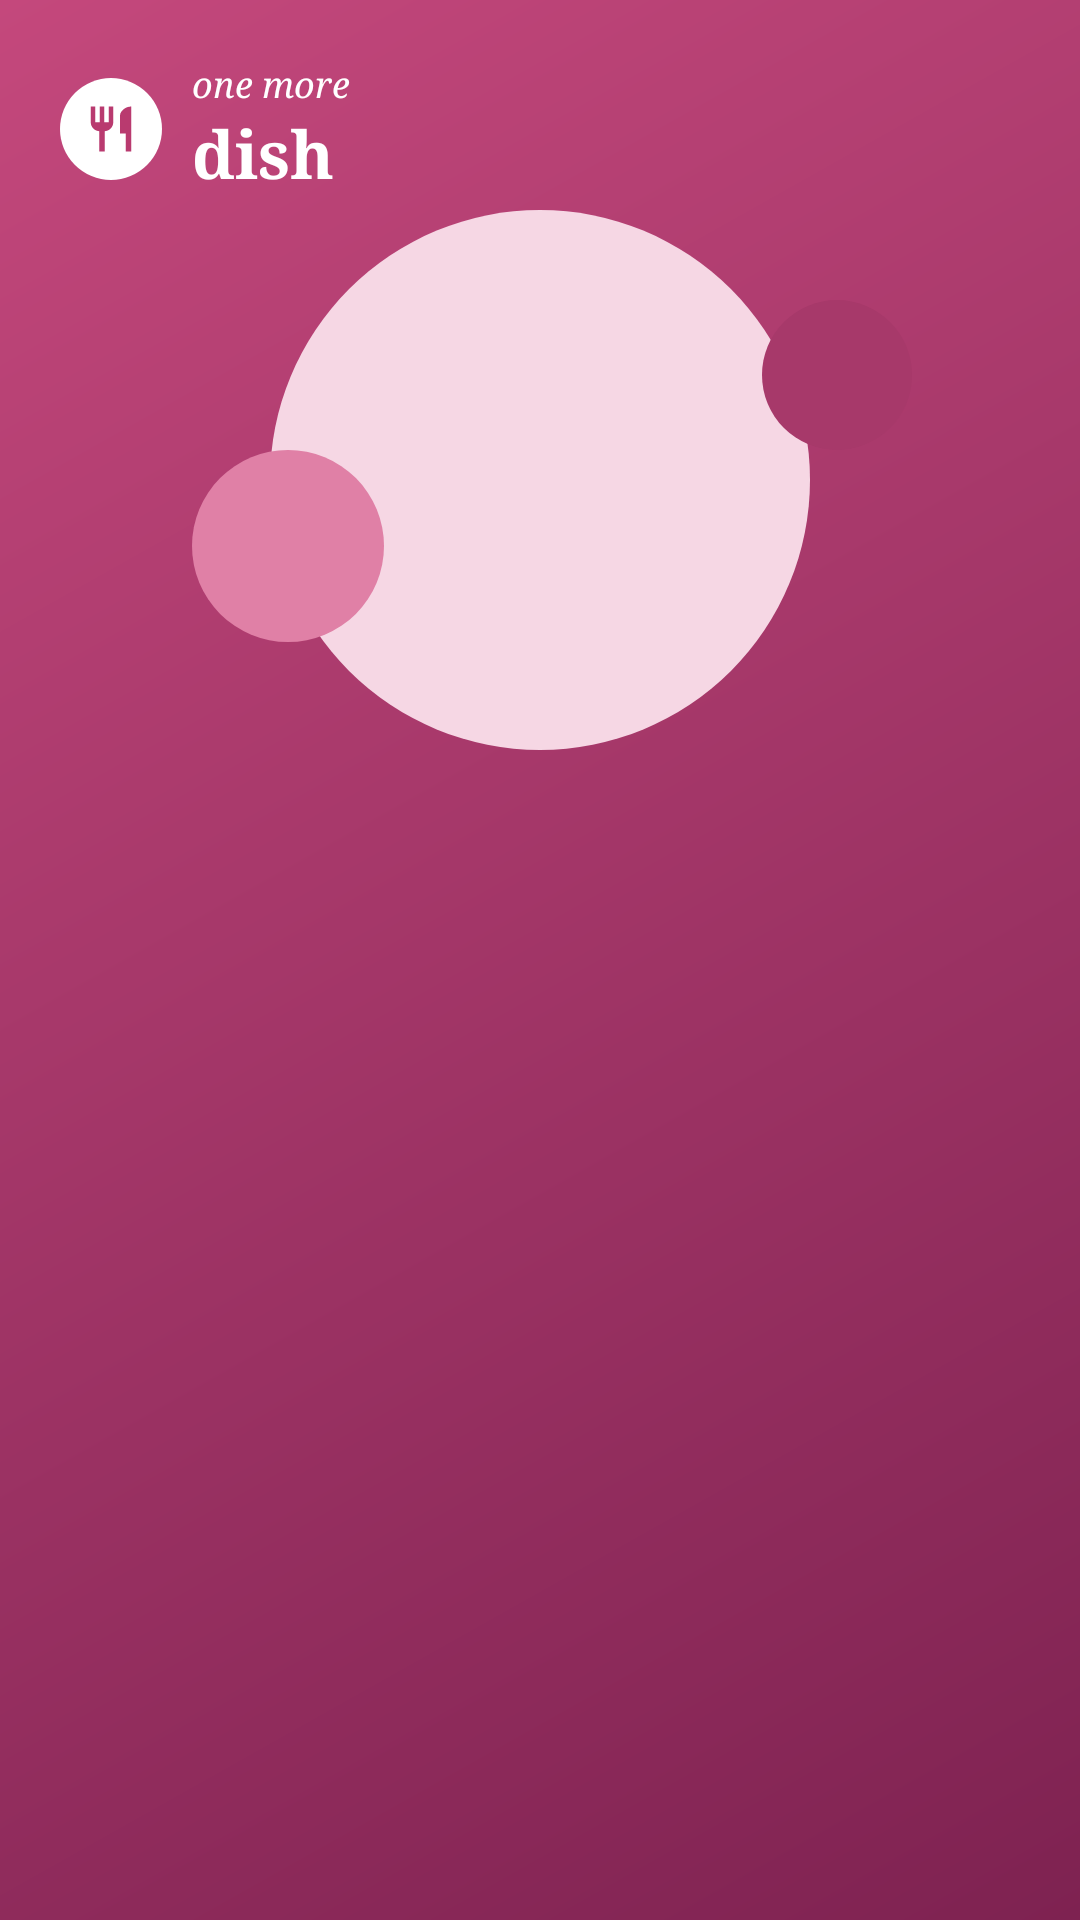

Icons on this 1080px x 1920px Android screen, each with the point to tap as point (x, y):
cubiertos: point (111, 129)
